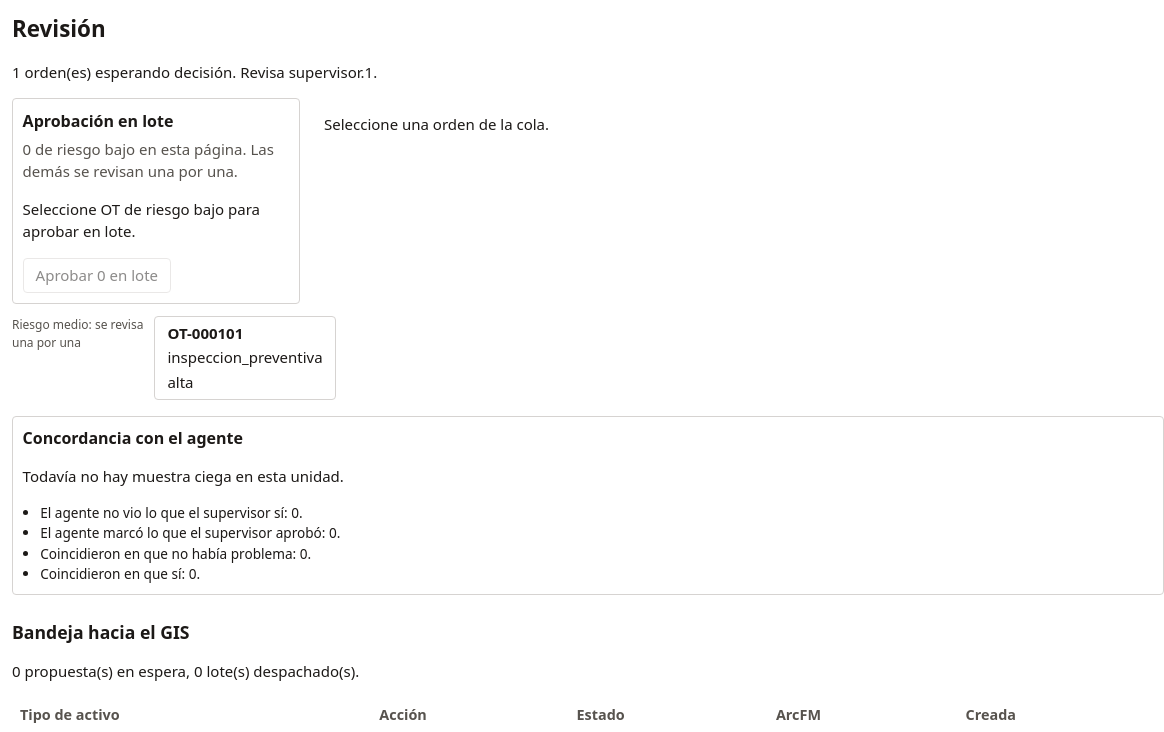
Test: la auditoría de la IA › destaca lo que nadie confirmó y dice de dónde salió
Click the button "OT-000101 inspeccion_preventiva alta": (245, 358) [154,316,336,400]
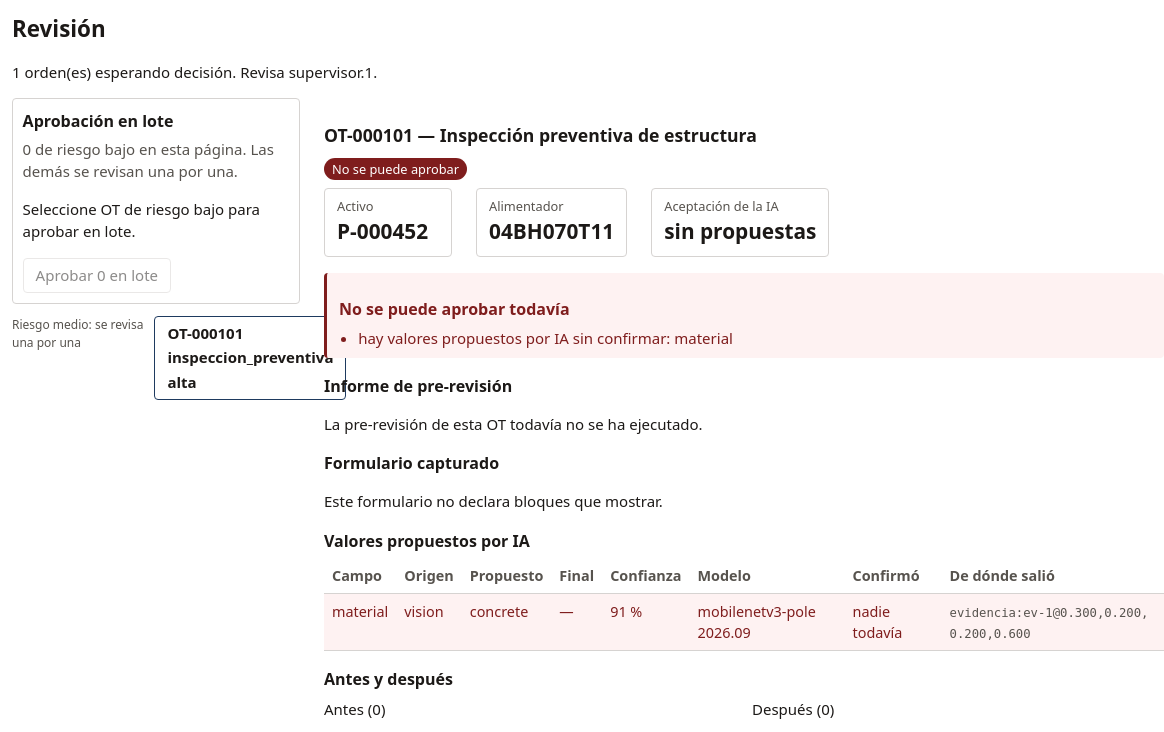
Check: the text "nadie todavía" is shown, box [844,594,942,651]
Check: the text "evidencia:ev-1@0.300,0.200,0.200,0.600" is shown, box [950,606,1148,641]
Check: the text "mobilenetv3-pole 2026.09" is shown, box [690,594,844,651]
